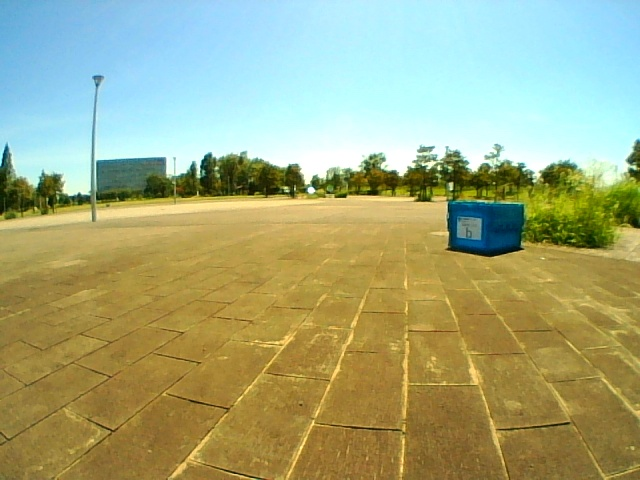blue_box: (449, 205, 522, 248)
tag_b: (459, 218, 480, 239)
